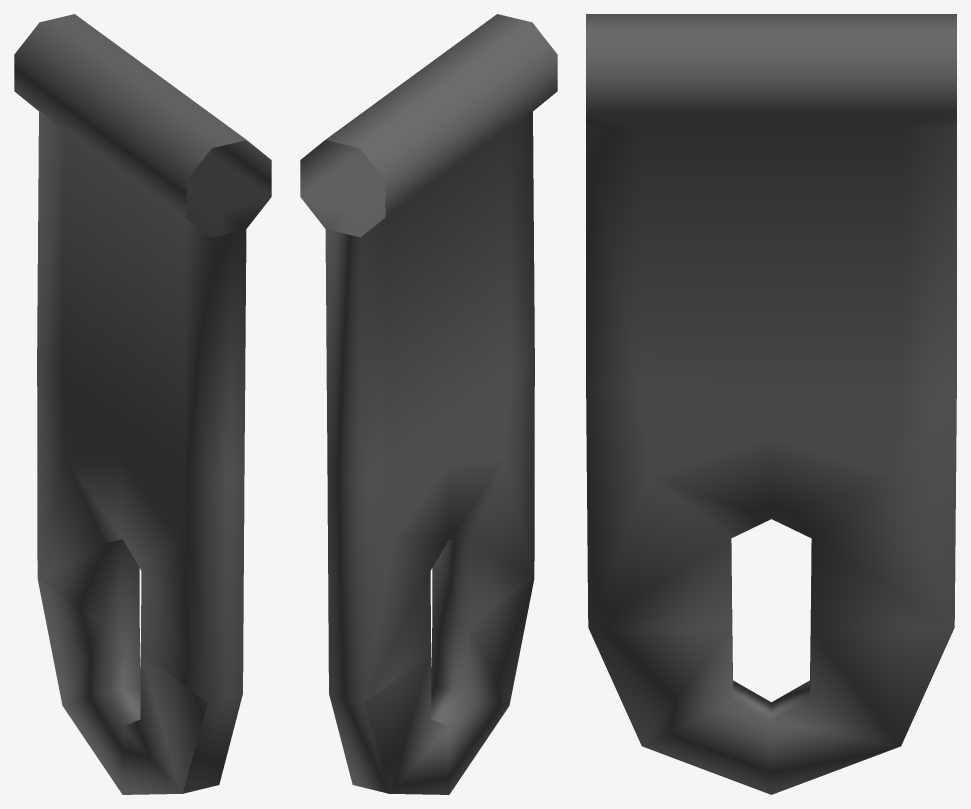
Rendered from SM_DeliveryBoxLidLatch.fbx.
3 views of the same model, side by side, from view 1: azimuth 30°, elevation 25°; view 2: azimuth 150°, elevation 25°; view 3: azimuth 270°, elevation 25° (orthographic). The views are drawn at different scales.
Visible parts, largest first — view 1: DeliveryBoxLidLatch; view 2: DeliveryBoxLidLatch; view 3: DeliveryBoxLidLatch.
Boxes of the visible parts, <box> form: DeliveryBoxLidLatch: <box>14,14,271,794</box>; DeliveryBoxLidLatch: <box>300,14,557,794</box>; DeliveryBoxLidLatch: <box>586,14,956,794</box>.
Size of the model in its own units: 2.58 by 20.52 by 9.03.
